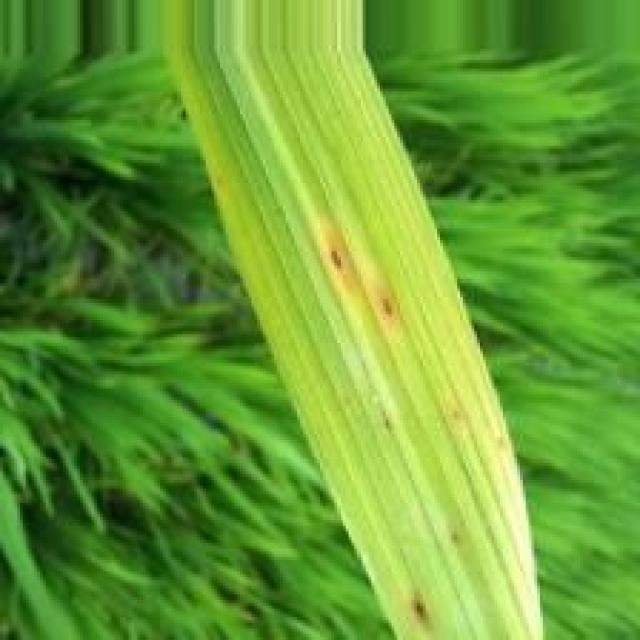Brown_Spot: (406, 586, 440, 633), (372, 289, 406, 333), (323, 241, 353, 286)
